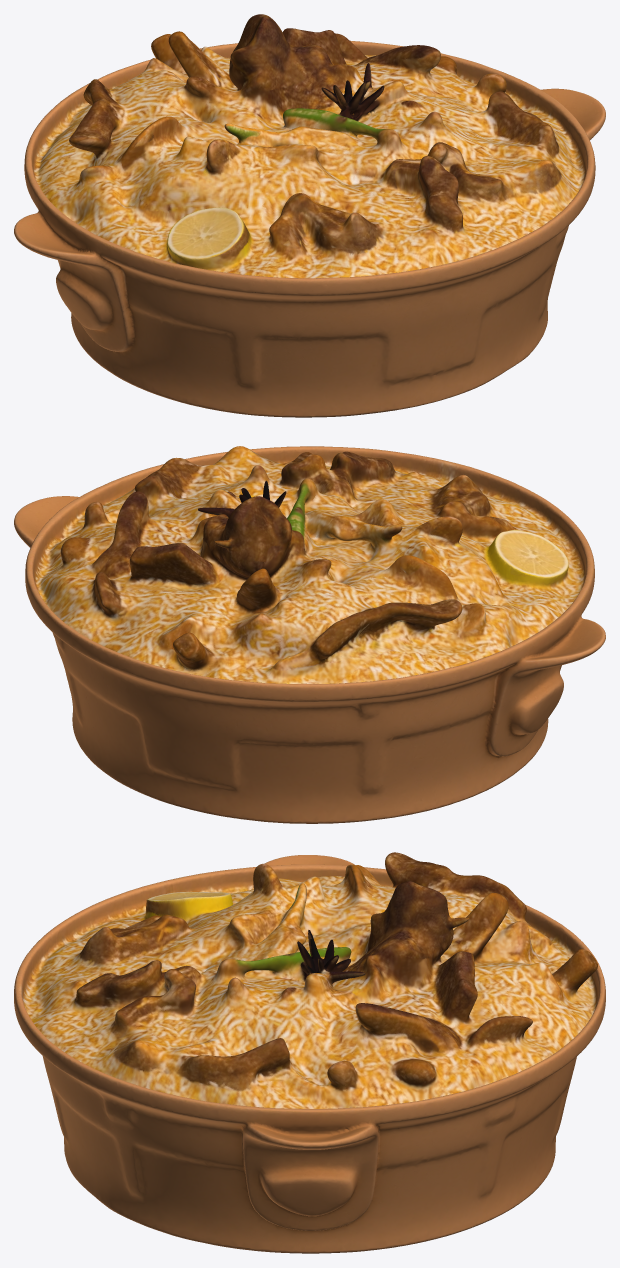
File: biryani.glb
3 views of the same model, one above another, from view 1: azimuth 30°, elevation 25°; view 2: azimuth 150°, elevation 25°; view 3: azimuth 270°, elevation 25° (orthographic). The views are drawn at different scales.
Bounding box in the file's own units: 1.9 × 0.8313 × 1.64.
Materials: 1 (1 with a texture image).
